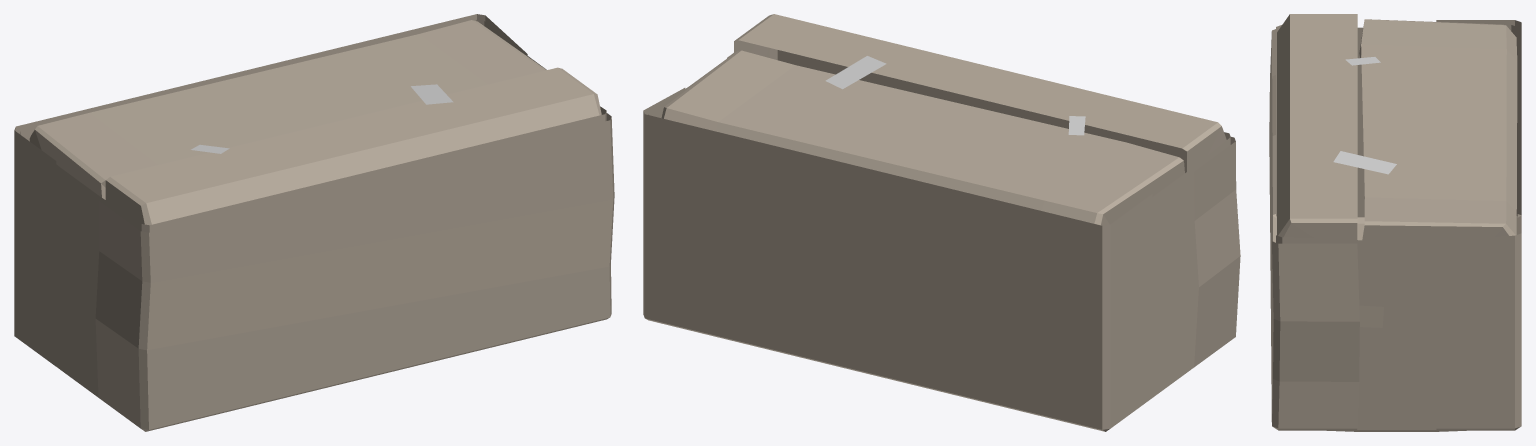
File: CardboardBox02.fbx
3 views of the same model, side by side, from view 1: azimuth 30°, elevation 25°; view 2: azimuth 150°, elevation 25°; view 3: azimuth 270°, elevation 25° (orthographic). The views are drawn at different scales.
Parts seen in each view (by area): view 1: CardboardBox02; view 2: CardboardBox02; view 3: CardboardBox02.
Part boxes in pixels (x1=…): CardboardBox02: x1=14, y1=14, x2=614, y2=431; CardboardBox02: x1=643, y1=14, x2=1240, y2=431; CardboardBox02: x1=1269, y1=14, x2=1521, y2=431.
Size of the model in its own units: 250 by 114 by 122.
